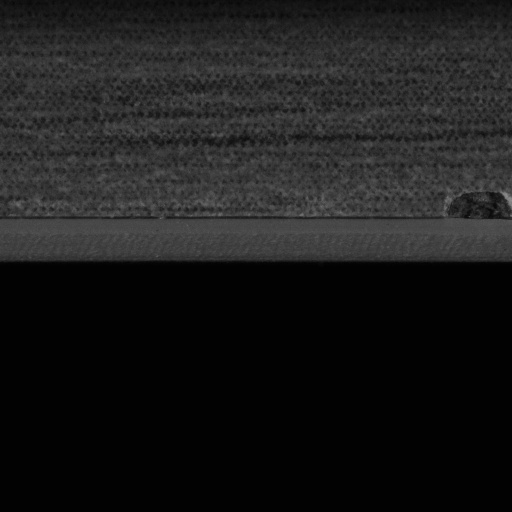bengque: (441, 189, 511, 225)
